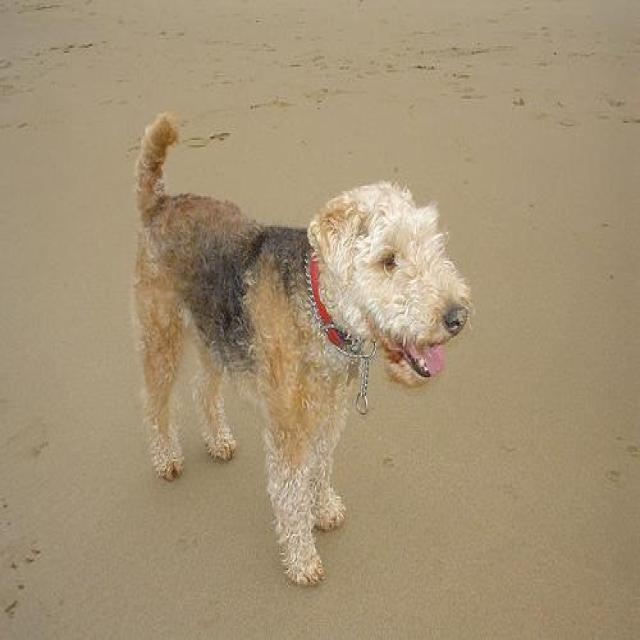happy: (126, 99, 482, 612)
